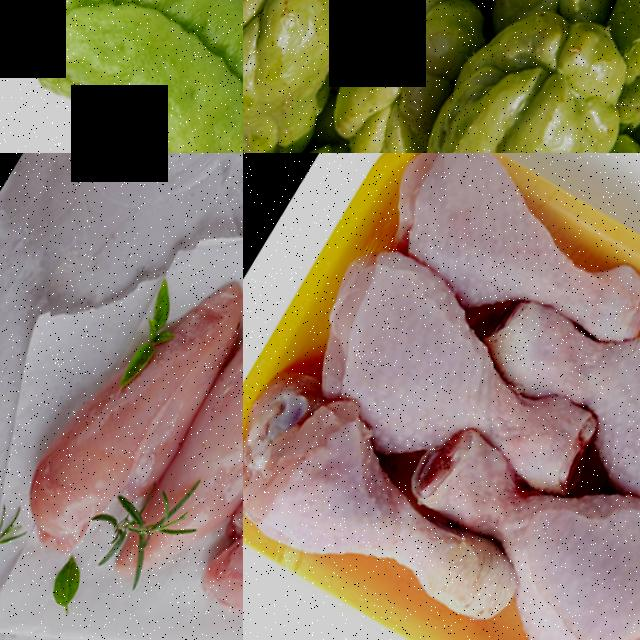chayote: (0, 0, 243, 153), (399, 0, 640, 153), (327, 0, 498, 153), (243, 0, 394, 153)
chicken breast: (11, 247, 243, 562), (99, 264, 243, 631)
chicken thigh: (284, 254, 616, 515), (243, 395, 533, 640), (341, 153, 640, 377), (374, 398, 640, 640)
